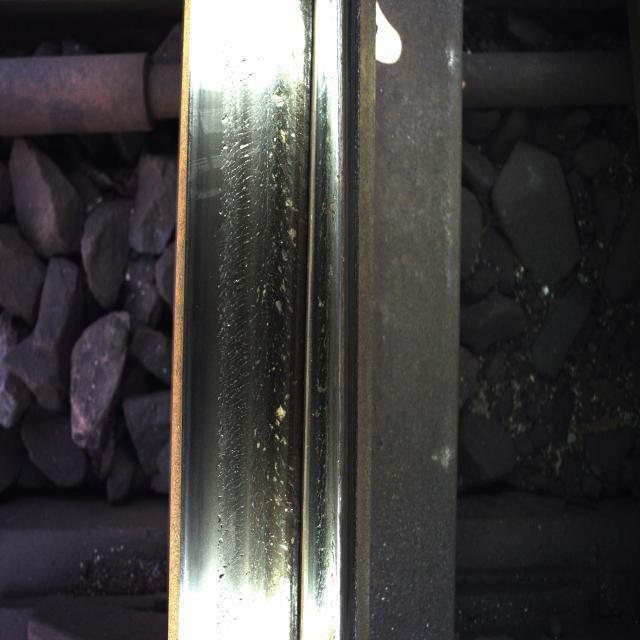crack: (212, 42, 296, 588)
